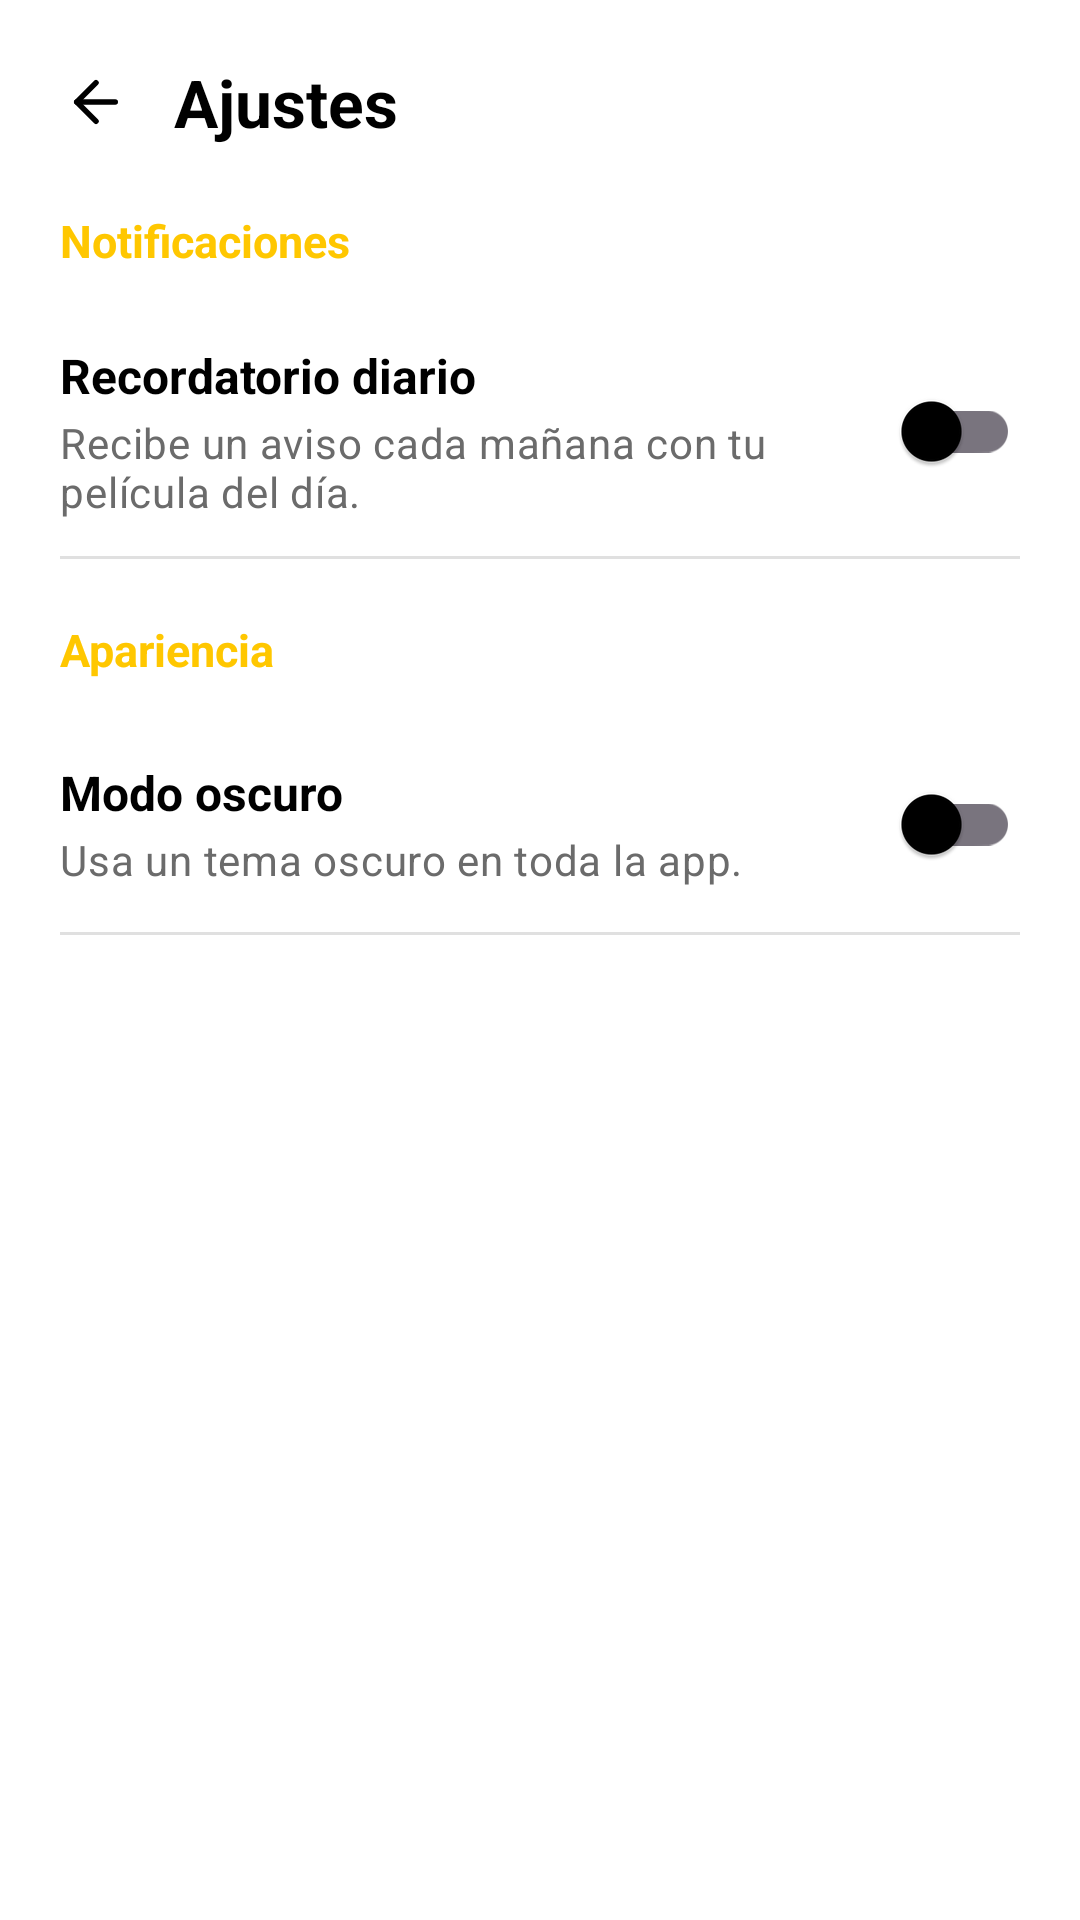

Named icons in this screenshot (1080*1920) and their centers, (x=x, y=y):
Volver: (x=96, y=102)
